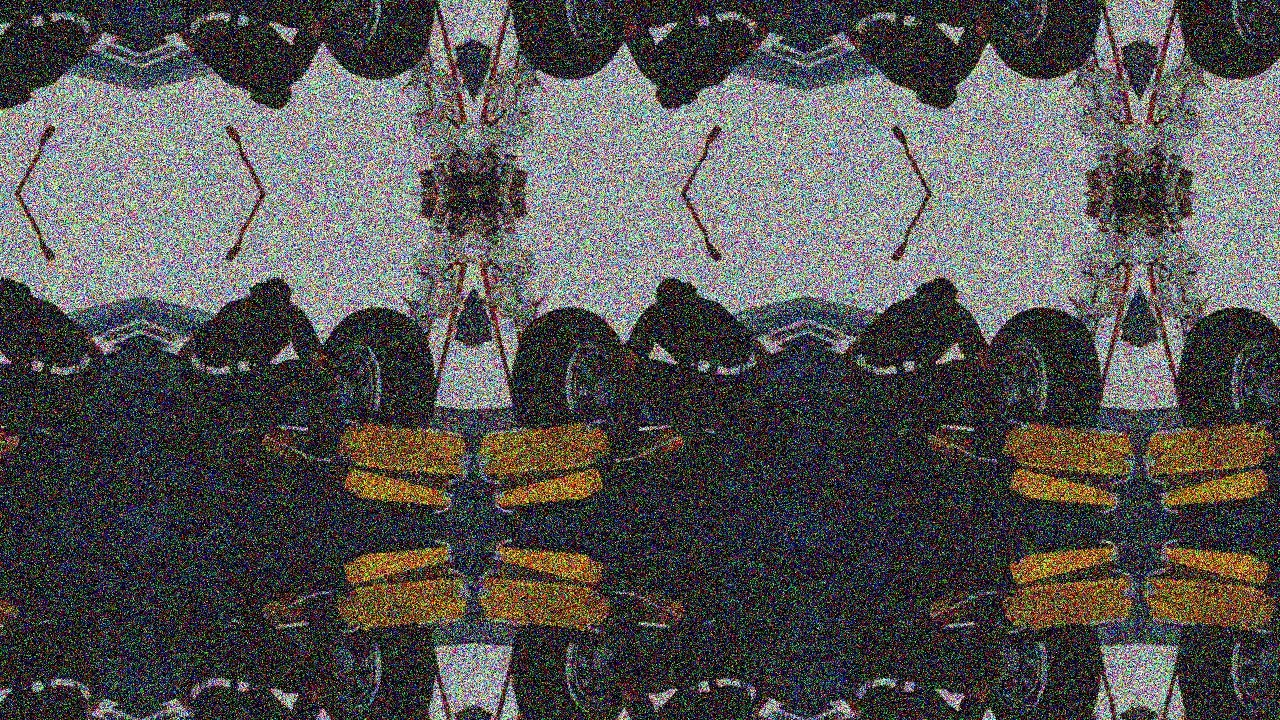chock: (473, 556, 617, 651), (330, 556, 473, 651), (997, 556, 1140, 651), (473, 403, 617, 497), (330, 403, 473, 497), (997, 403, 1140, 497), (1140, 556, 1280, 651), (1140, 403, 1280, 497), (339, 446, 462, 524), (485, 446, 608, 524), (1005, 446, 1128, 524), (1152, 446, 1275, 524), (339, 529, 462, 607), (485, 529, 608, 607), (1005, 529, 1128, 607), (1152, 529, 1275, 607), (253, 416, 357, 477), (253, 576, 357, 637), (590, 416, 693, 477), (920, 416, 1023, 477), (590, 576, 693, 637), (920, 576, 1023, 637), (0, 416, 27, 477), (0, 576, 27, 637), (1257, 416, 1280, 477), (1257, 576, 1280, 637)
wheel: (493, 295, 655, 483), (958, 295, 1120, 483), (292, 295, 453, 483), (493, 570, 655, 720), (958, 570, 1120, 720), (292, 570, 453, 720), (1160, 295, 1280, 483), (1160, 570, 1280, 720), (493, 0, 655, 92), (958, 0, 1120, 92), (292, 0, 453, 92), (1160, 0, 1280, 92)
